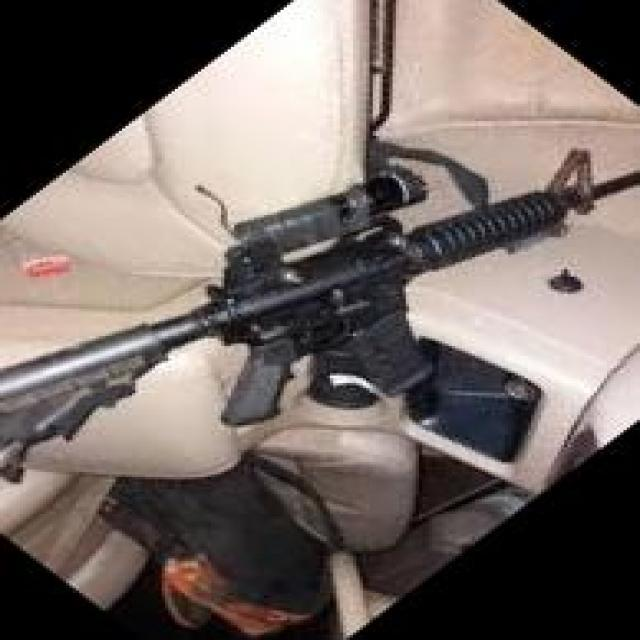weapon: (0, 146, 640, 485)
